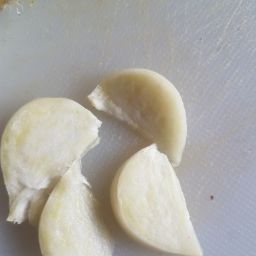Garlic cloves: (3, 92, 107, 230), (76, 58, 195, 168), (105, 139, 213, 256), (39, 156, 121, 256)
